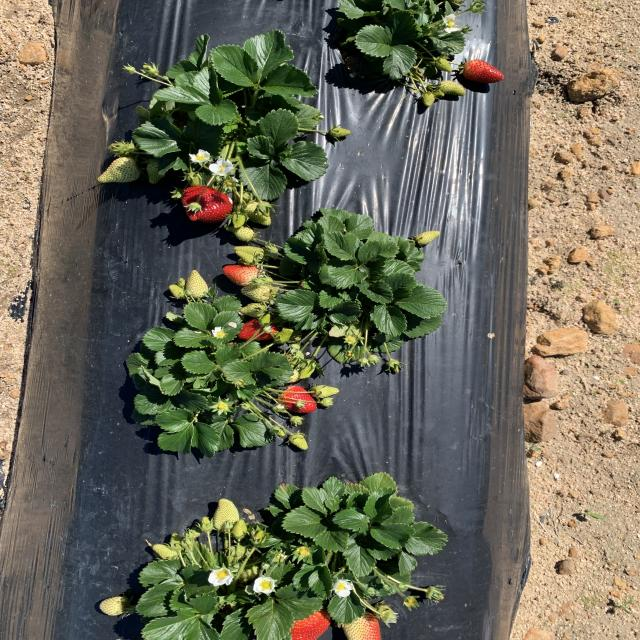unripe: (180, 185, 240, 222), (278, 600, 332, 640), (452, 59, 507, 87), (230, 316, 290, 341), (277, 384, 320, 414)
